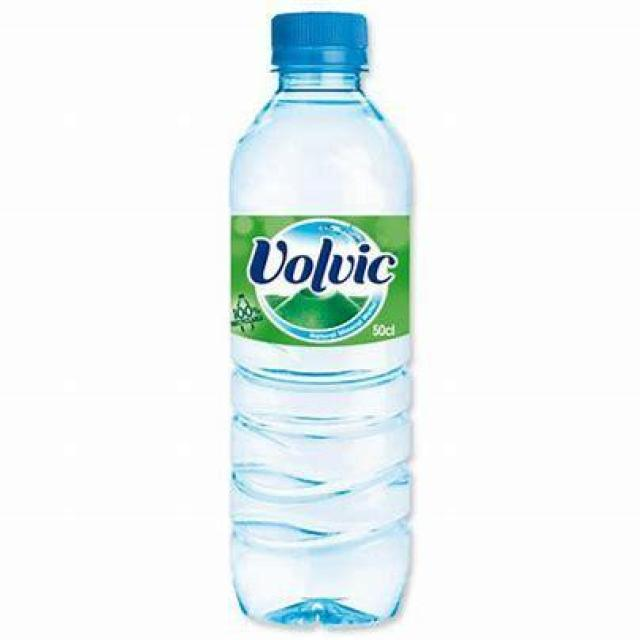bottle: (220, 12, 418, 625)
